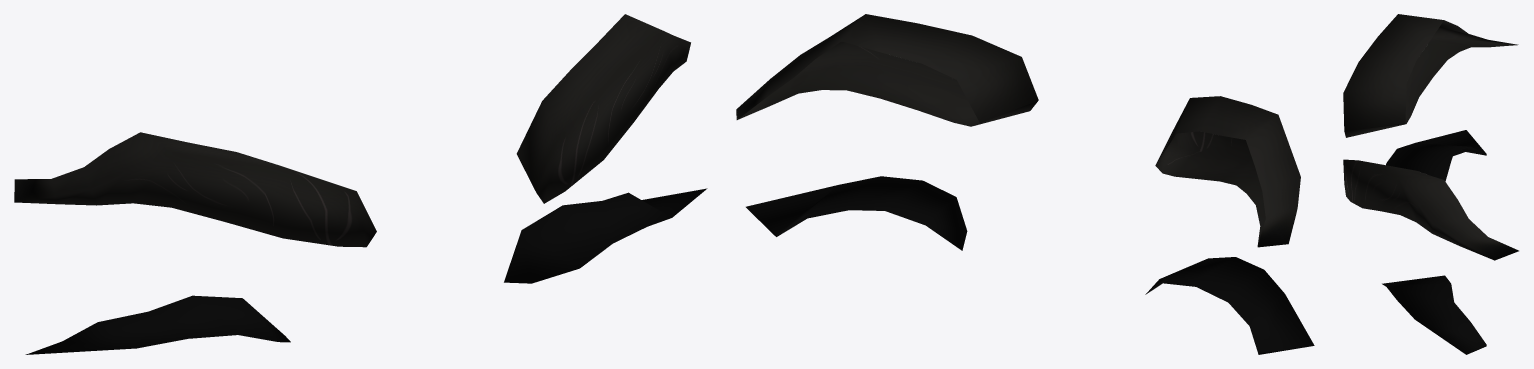
The model's file is brous4.fbx.
3 views of the same model, side by side, from view 1: azimuth 30°, elevation 25°; view 2: azimuth 150°, elevation 25°; view 3: azimuth 270°, elevation 25° (orthographic). The views are drawn at different scales.
Visible parts, largest first — view 1: brous4; view 2: brous4; view 3: brous4.
Boxes of the visible parts, x1=… form: brous4: x1=14, y1=14, x2=707, y2=354; brous4: x1=736, y1=14, x2=1314, y2=354; brous4: x1=1343, y1=14, x2=1518, y2=354.
Bounding box in the file's own units: 11.14 × 3.65 × 3.69.
